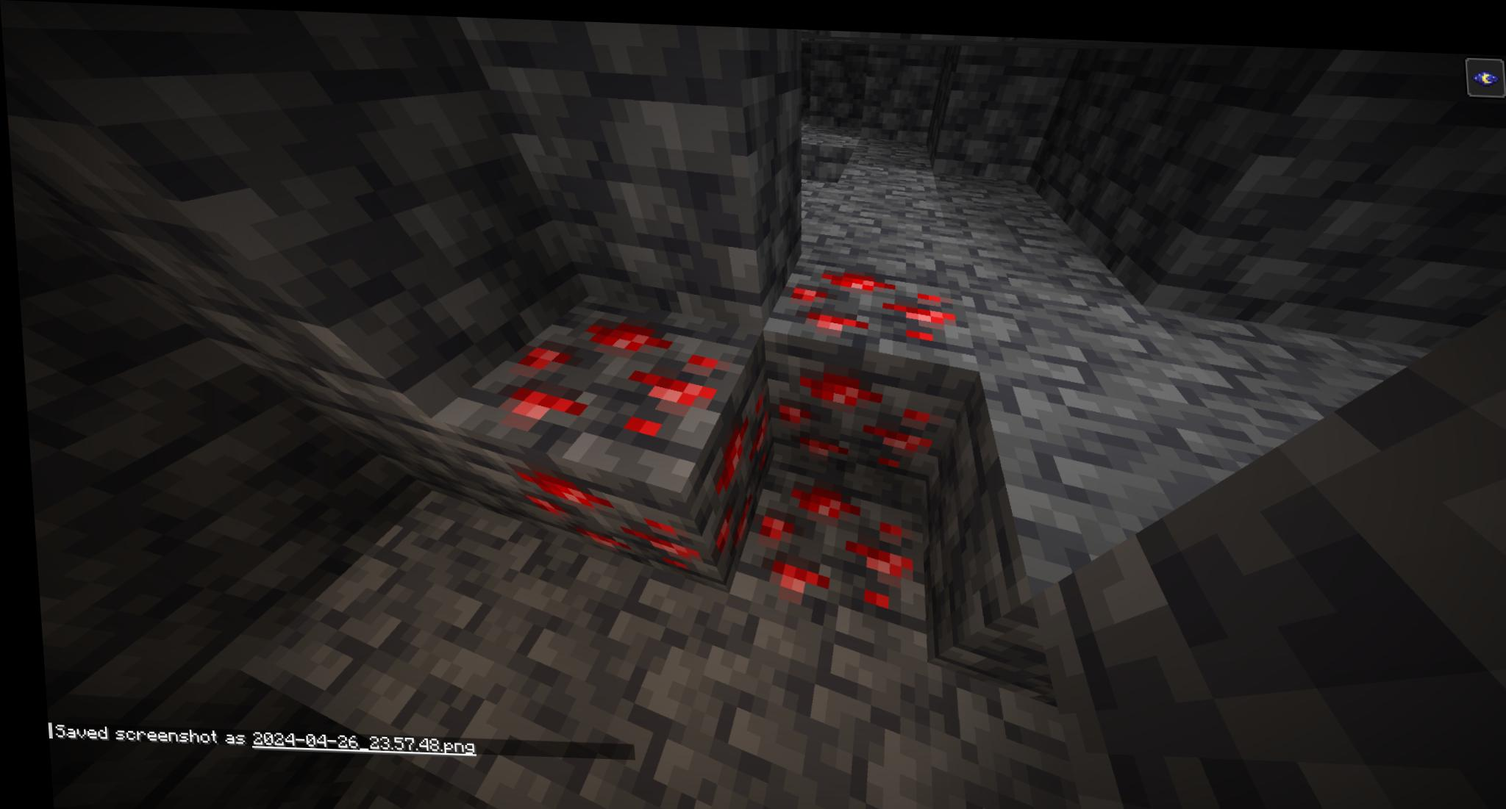redstone ore: (476, 293, 702, 450), (751, 469, 925, 626), (478, 453, 684, 571), (771, 351, 950, 475), (770, 252, 966, 341), (699, 373, 773, 577)
